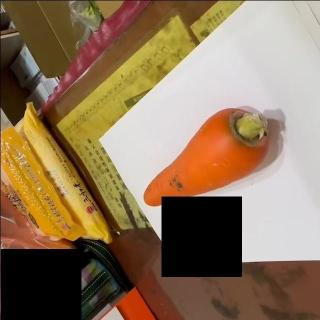carrot: (141, 106, 269, 208)
